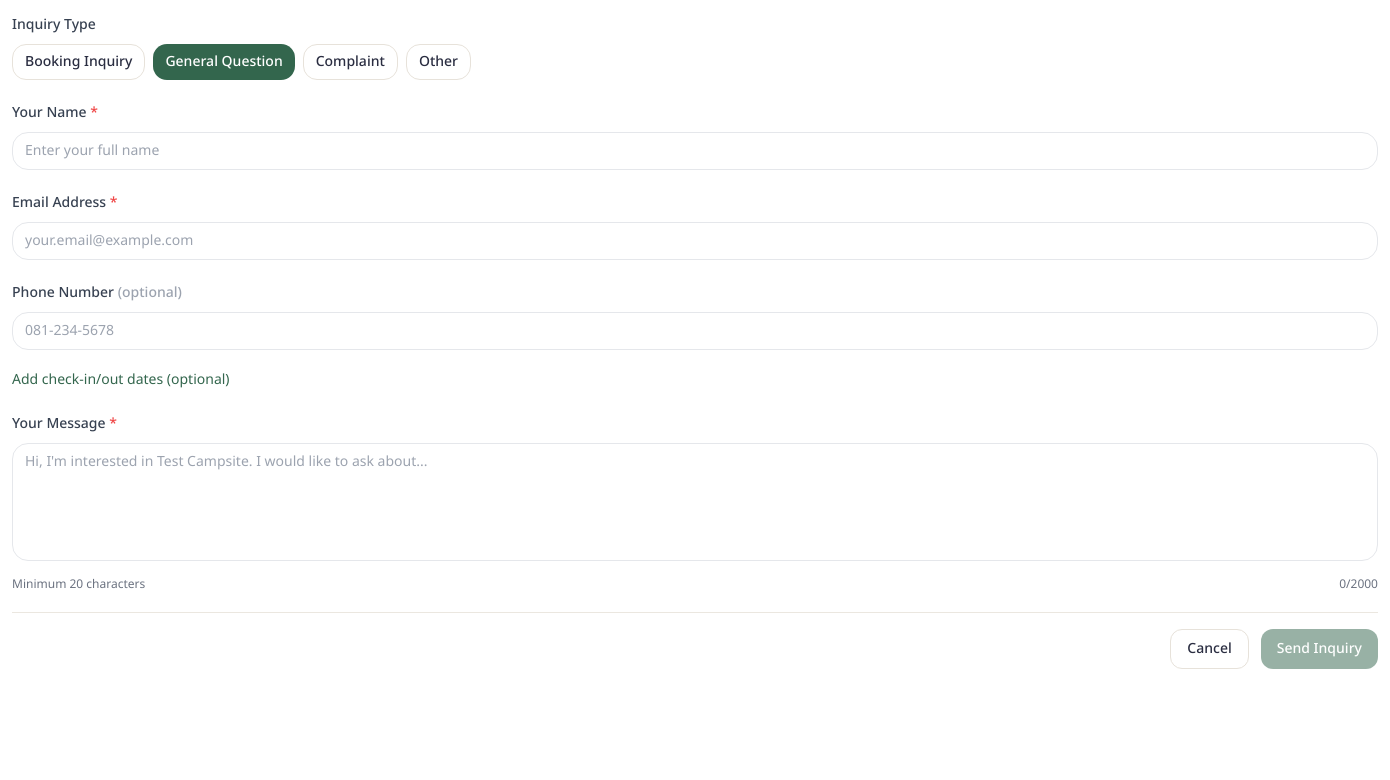
Test case: InquiryForm Character Counter › Character count display › updates count when text is deleted
Step 1. Type "Hello World" into the text box labelled "Your Message *" → (695, 502), box x1=12 y1=443 x2=1378 y2=561
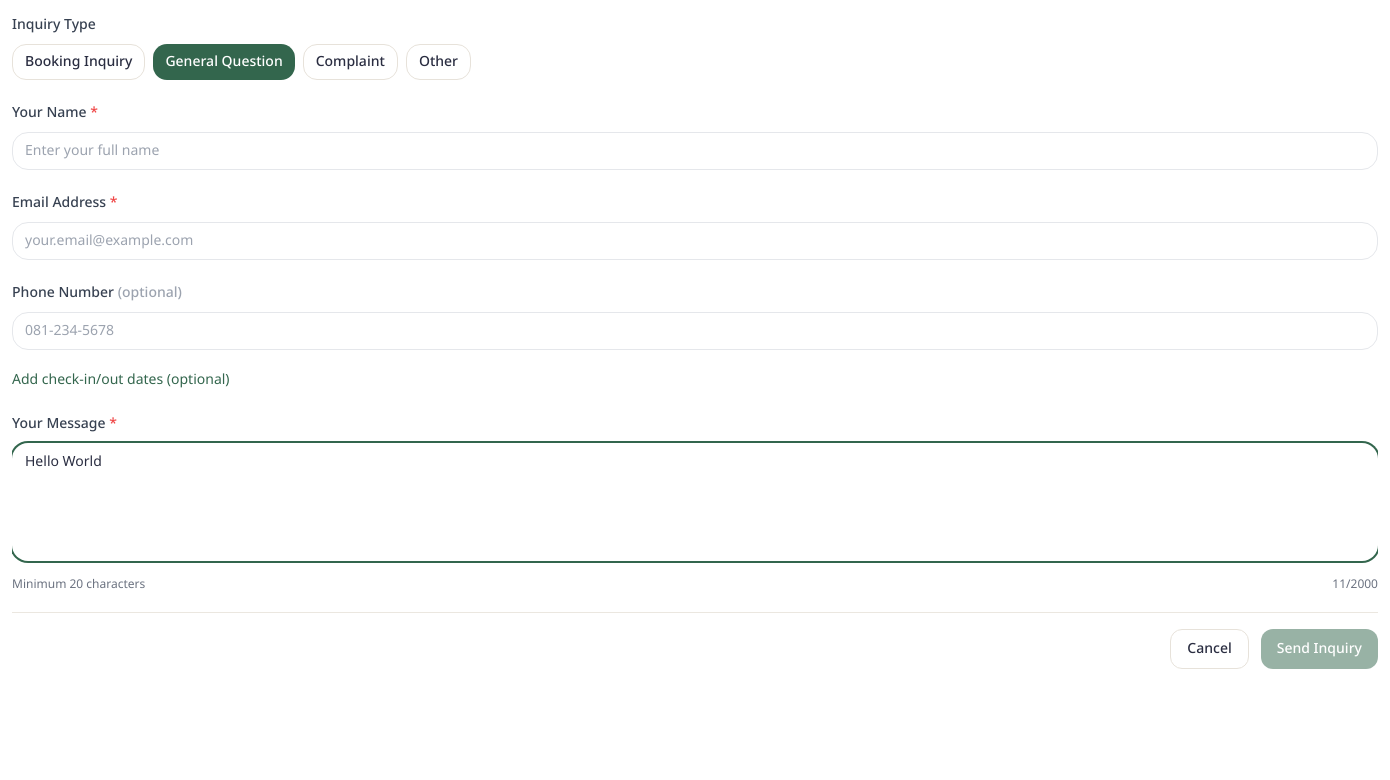
Expected: the text "11/2000" is shown, x1=1332 y1=576 x2=1378 y2=592
Step 2. Replace the text in the text box labelled "Your Message *" with "Hi" → (695, 502), box x1=12 y1=443 x2=1378 y2=561
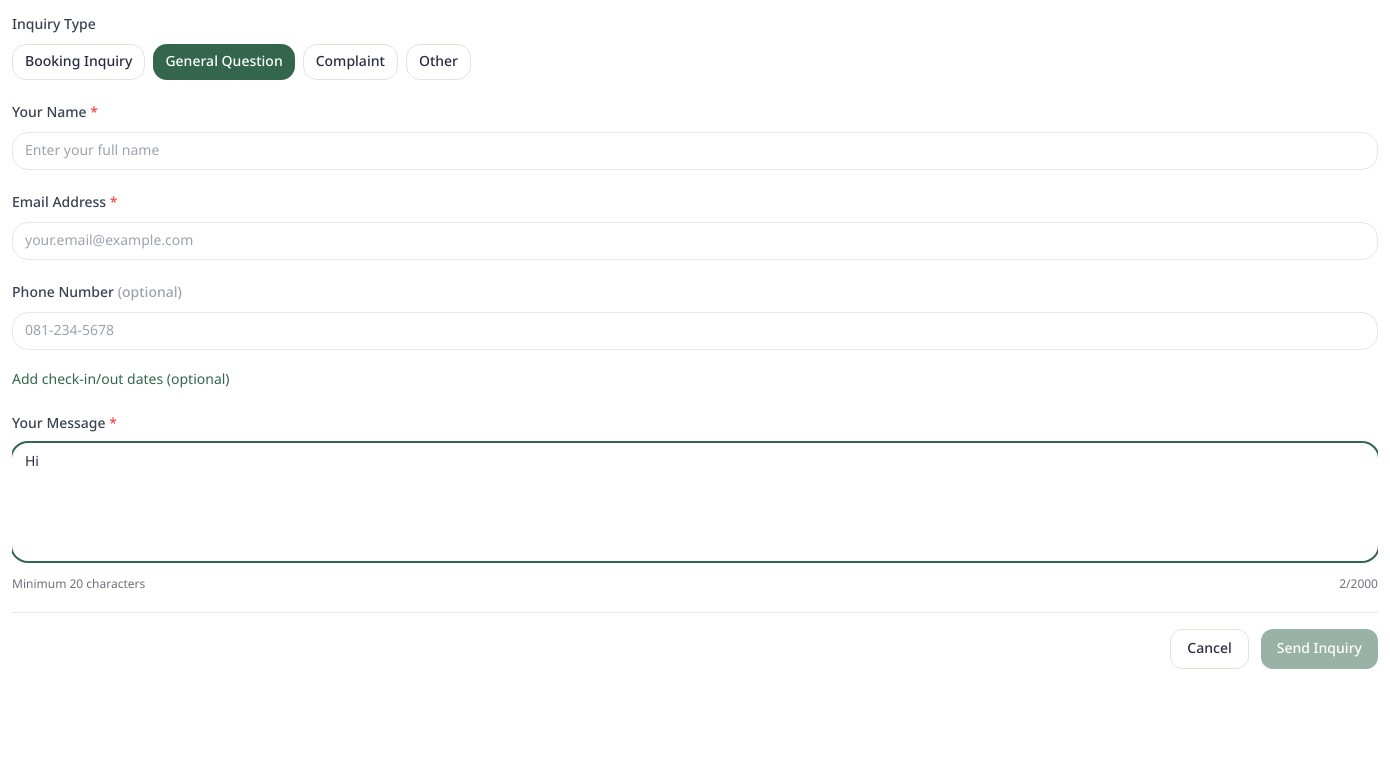
Expected: the text "2/2000" is shown, x1=1339 y1=576 x2=1378 y2=592
